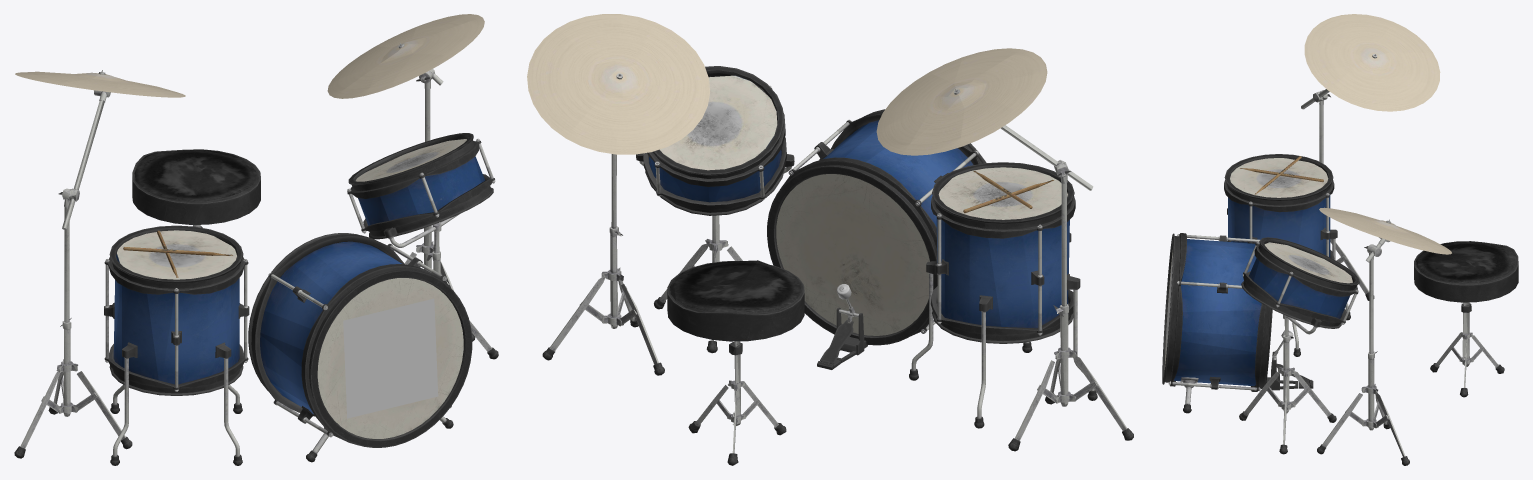
The model's file is drum.fbx.
3 renders of one model, left to right at view 1: azimuth 30°, elevation 25°; view 2: azimuth 150°, elevation 25°; view 3: azimuth 270°, elevation 25°, orthographic. The views are drawn at different scales.
Visible parts, largest first — view 1: drum1; view 2: drum1; view 3: drum1.
Part boxes in pixels (x1,y1,x2,y2): drum1: (14, 14, 498, 465); drum1: (527, 14, 1133, 465); drum1: (1162, 14, 1518, 465).
Size of the model in its own units: 212 by 138 by 159.
